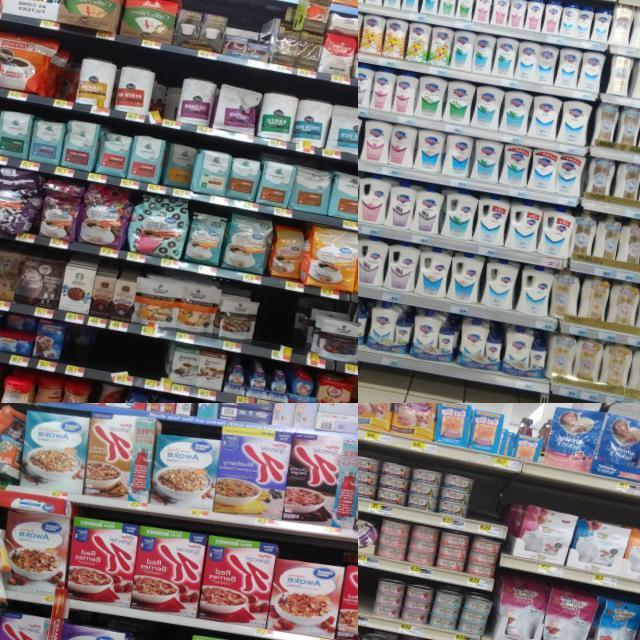Imprecise: (149, 72, 182, 122), (161, 143, 196, 190), (0, 314, 34, 356)
